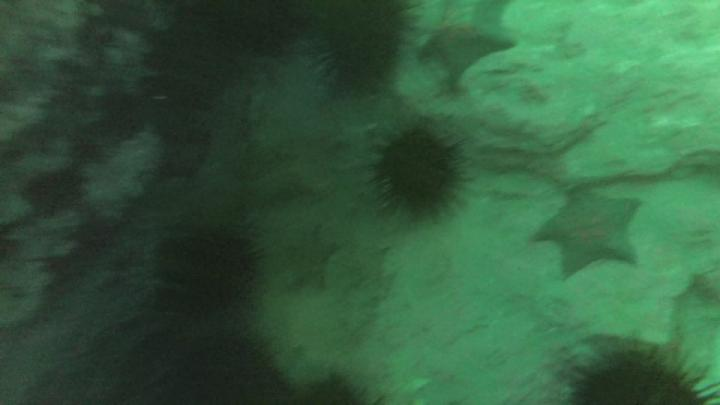echinus: (376, 132, 462, 215), (179, 334, 279, 405), (171, 237, 258, 311), (579, 355, 706, 405), (327, 17, 401, 89)
starfish: (533, 187, 641, 277), (426, 19, 514, 82)
